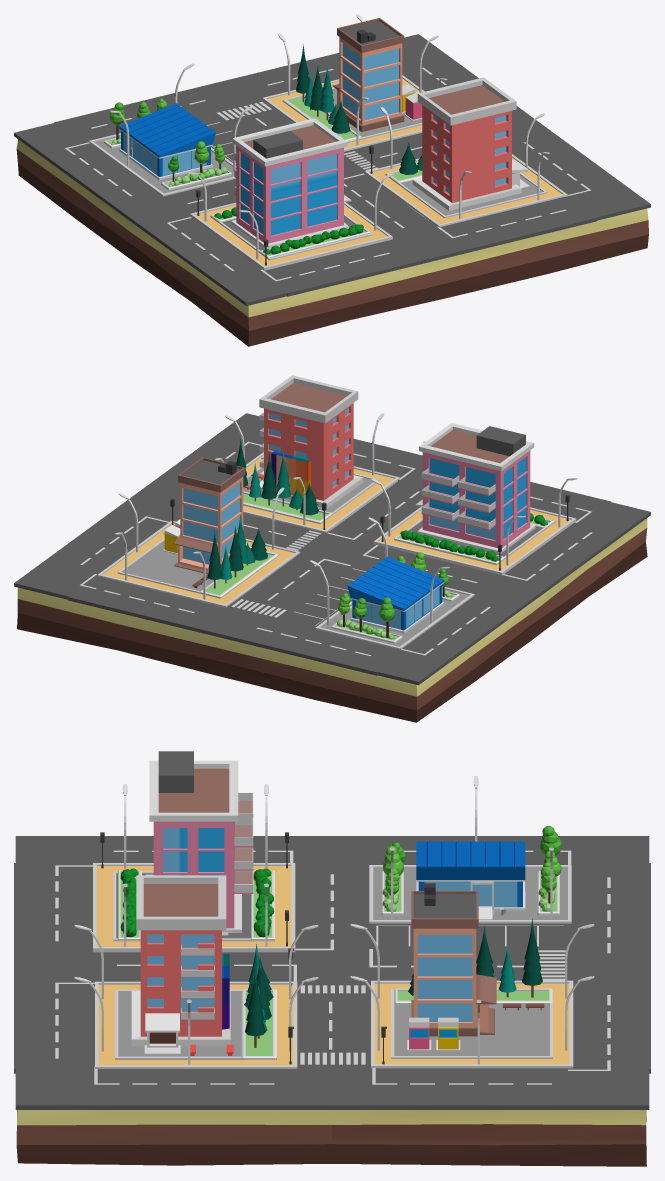
The model's file is city2.glb.
The picture shows the model from 3 angles, top to bottom: view 1: azimuth 30°, elevation 25°; view 2: azimuth 150°, elevation 25°; view 3: azimuth 270°, elevation 25°; orthographic projection. The views are drawn at different scales.
Parts seen in each view (by area): view 1: ROAD, Floor_6, House, House_2, House_3, Shop, Floor, Floor_2, Floor_4_4, Floor_3, Floor_4_2, Bushes (+4 smaller); view 2: ROAD, Floor_6, House, House_2, House_3, Shop, Floor_3, Floor, Floor_4_3, Floor_2, Floor_4_4, Floor_4_5 (+7 smaller); view 3: ROAD, Floor_6, House_2, House, House_3, Shop, Floor_4_3, Floor_3, Floor_2, Floor, Floor_4_4, Floor_4_2 (+12 smaller).
Boxes of the visible parts, x1,y1,x2,y2 form: ROAD: [14, 34, 650, 305]; Floor_6: [16, 139, 648, 346]; House: [231, 118, 351, 248]; House_2: [412, 77, 529, 210]; House_3: [332, 18, 404, 131]; Shop: [119, 103, 215, 180]; Floor: [190, 202, 392, 270]; Floor_2: [365, 154, 567, 227]; Floor_4_4: [89, 133, 236, 196]; Floor_3: [262, 75, 424, 151]; Floor_4_2: [385, 172, 547, 218]; Bushes: [263, 224, 363, 254]; ROAD: [14, 413, 650, 685]; Floor_6: [17, 489, 647, 722]; House: [415, 423, 535, 553]; House_2: [259, 375, 363, 508]; House_3: [173, 457, 245, 573]; Shop: [347, 556, 444, 633]; Floor_3: [97, 520, 300, 607]; Floor: [373, 506, 576, 575]; Floor_4_3: [117, 538, 279, 598]; Floor_2: [243, 452, 399, 533]; Floor_4_4: [315, 586, 474, 649]; Floor_4_5: [284, 568, 366, 626]; ROAD: [14, 836, 650, 1109]; Floor_6: [16, 1110, 646, 1166]; House_2: [131, 875, 230, 1054]; House: [146, 751, 253, 935]; House_3: [411, 883, 496, 1036]; Shop: [416, 841, 525, 919]; Floor_4_3: [391, 989, 552, 1058]; Floor_3: [371, 980, 573, 1068]; Floor_2: [95, 981, 297, 1068]; Floor: [93, 863, 295, 952]; Floor_4_4: [369, 865, 571, 923]; Floor_4_2: [115, 989, 276, 1059].
Bounding box in the file's own units: 21.92 × 7.44 × 21.92.
3 materials, 2 textured.
